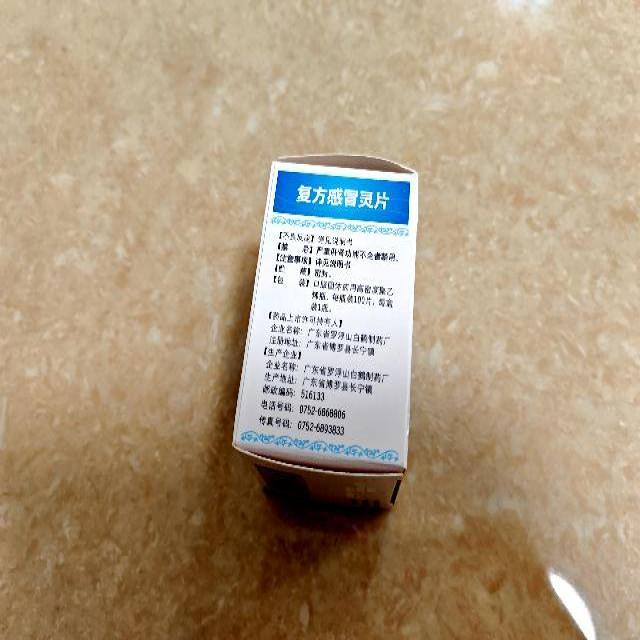box: (232, 152, 420, 508)
